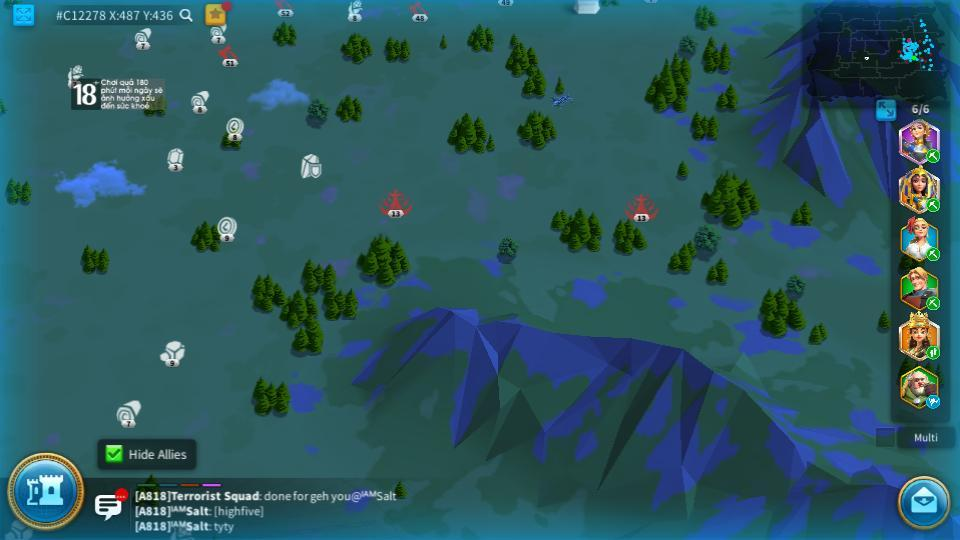gem-z-out: (165, 148, 184, 169)
march_farming: (925, 197, 941, 212), (925, 149, 941, 162), (925, 297, 941, 308), (926, 250, 941, 261)
march_idle: (925, 396, 942, 408)
march_marching: (925, 346, 941, 359)
